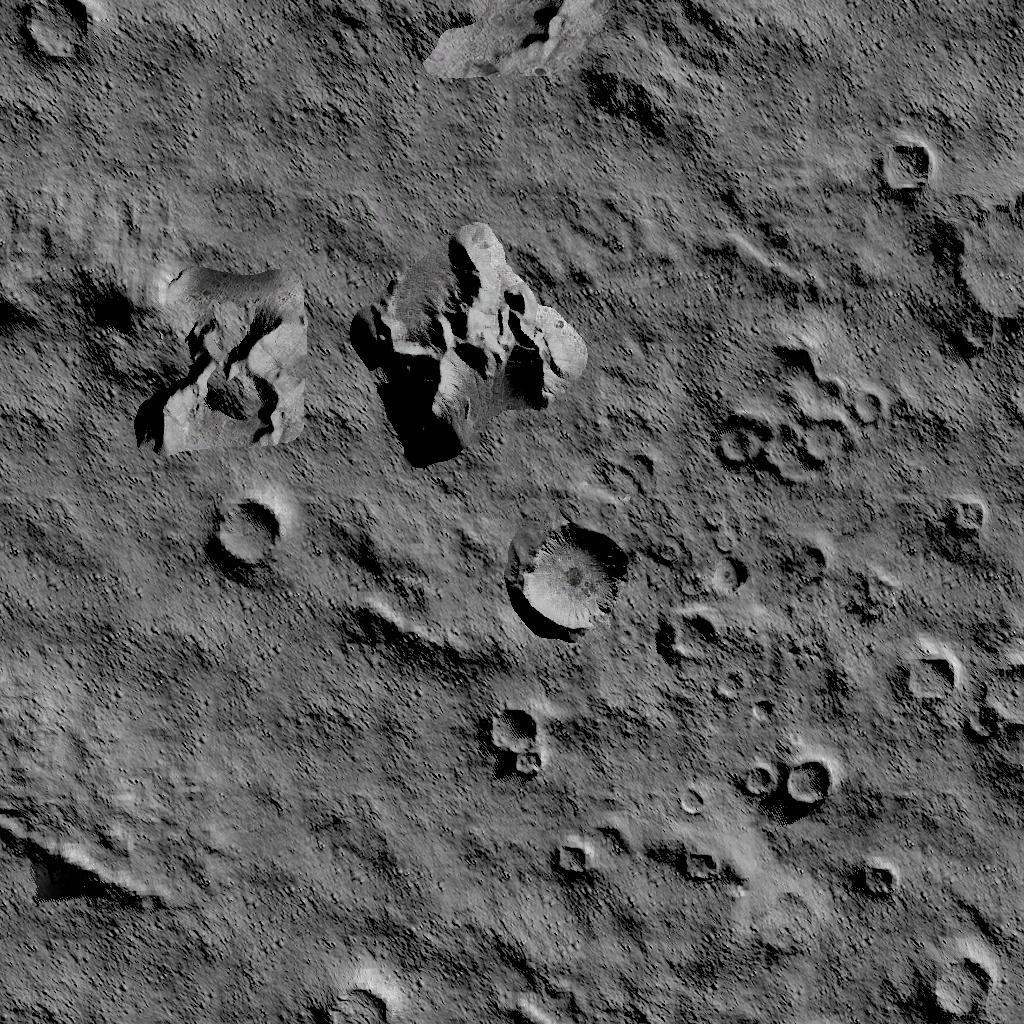Boulders: (351, 221, 588, 460), (133, 254, 309, 449), (387, 0, 610, 83)
Crater: (712, 336, 880, 478), (514, 520, 631, 633), (947, 182, 1024, 331), (914, 948, 998, 1024), (207, 489, 285, 566), (734, 752, 832, 801), (483, 702, 548, 775), (323, 966, 397, 1024), (974, 653, 1024, 737), (875, 135, 938, 193), (11, 0, 85, 46), (902, 650, 960, 704), (659, 606, 720, 656), (941, 490, 993, 536), (706, 546, 752, 586), (549, 834, 592, 876), (854, 851, 900, 889), (677, 846, 722, 881), (674, 776, 708, 812), (722, 665, 748, 697)
Plan surface: (211, 652, 479, 954), (0, 464, 197, 783), (91, 0, 373, 192)
